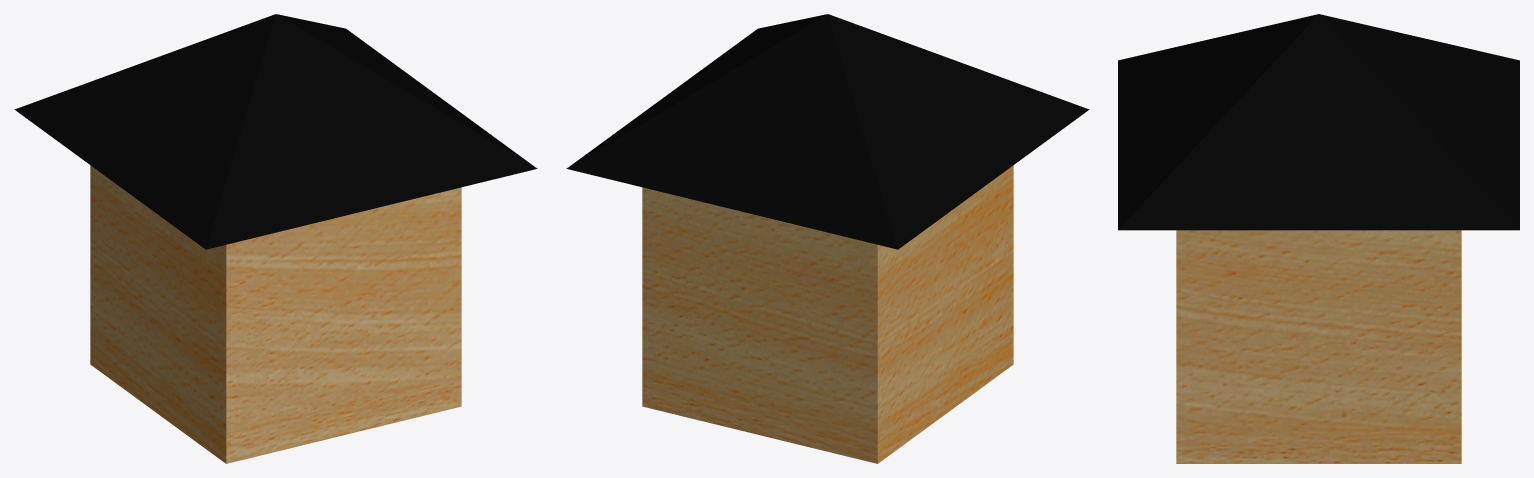
File: map_objects_house.fbx
3 renders of one model, left to right at view 1: azimuth 30°, elevation 25°; view 2: azimuth 150°, elevation 25°; view 3: azimuth 270°, elevation 25°, orthographic. The views are drawn at different scales.
Parts seen in each view (by area): view 1: 立方体.001; view 2: 立方体.001; view 3: 立方体.001.
Part boxes in pixels (x1=…): 立方体.001: x1=14, y1=14, x2=537, y2=463; 立方体.001: x1=566, y1=14, x2=1089, y2=463; 立方体.001: x1=1118, y1=14, x2=1519, y2=463.
Size of the model in its own units: 564 by 603 by 564.
Materials: 2 (1 with a texture image).
